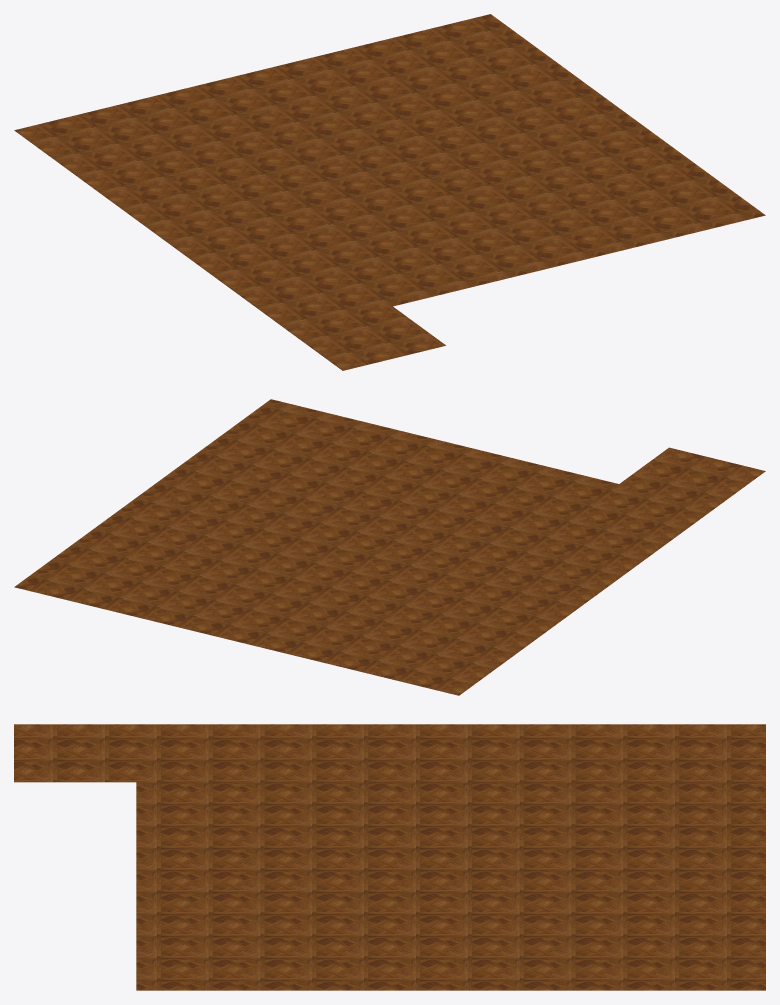
The model's file is Smallroomfloor1.fbx.
3 renders of one model, top to bottom at view 1: azimuth 30°, elevation 25°; view 2: azimuth 150°, elevation 25°; view 3: azimuth 270°, elevation 25°, orthographic. The views are drawn at different scales.
Parts seen in each view (by area): view 1: Plane; view 2: Plane; view 3: Plane.
Boxes of the visible parts, box(x1,y1,x2,y2) form: Plane: box(14, 14, 765, 370); Plane: box(14, 399, 765, 695); Plane: box(14, 724, 765, 990).
Bounding box in the file's own units: 572 × 0.000111 × 683.
